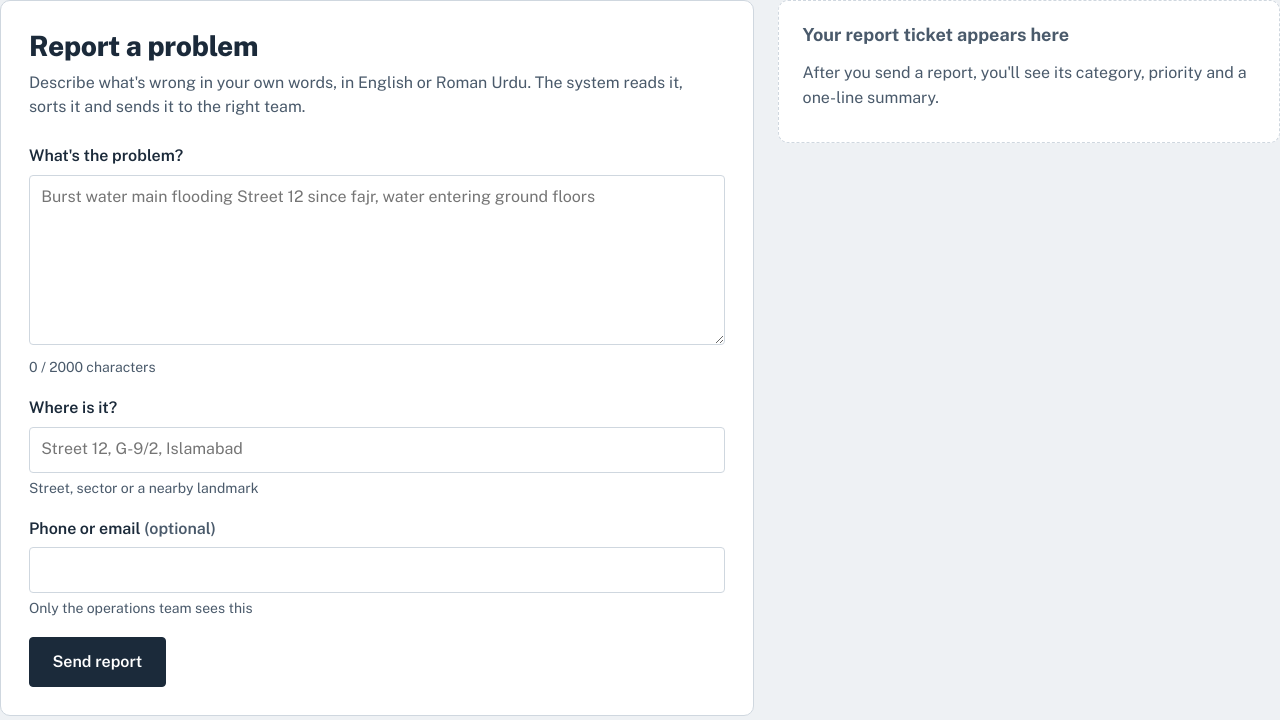
Test: shows the category, priority, summary and provider returned by the server
The image size is (1280, 720).
Type "Burst water main flooding Street 12" into the text box labelled "What's the problem?" at (377, 260), box left=29, top=175, right=725, bottom=345
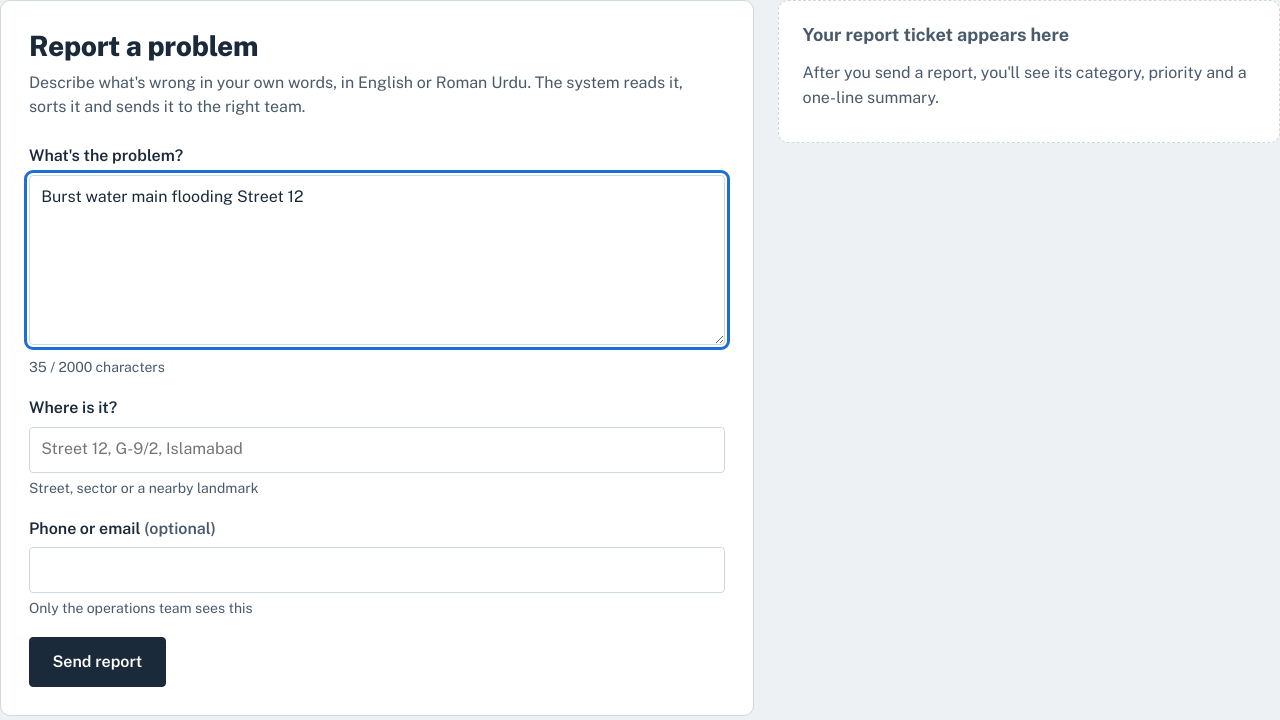
Type "Street 12, G-9/2" into the field labelled "Where is it?" at (377, 450), box left=29, top=427, right=725, bottom=473
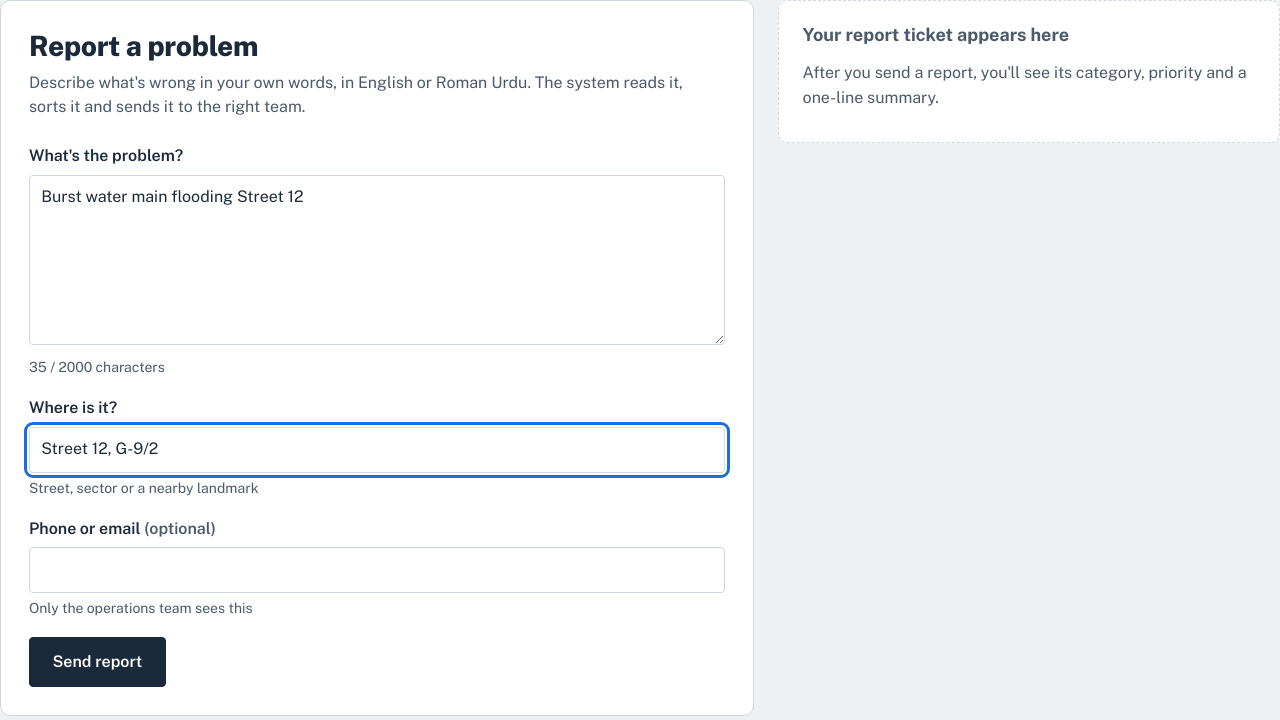
Click the button "Send report" at (97, 662), box left=29, top=637, right=166, bottom=686
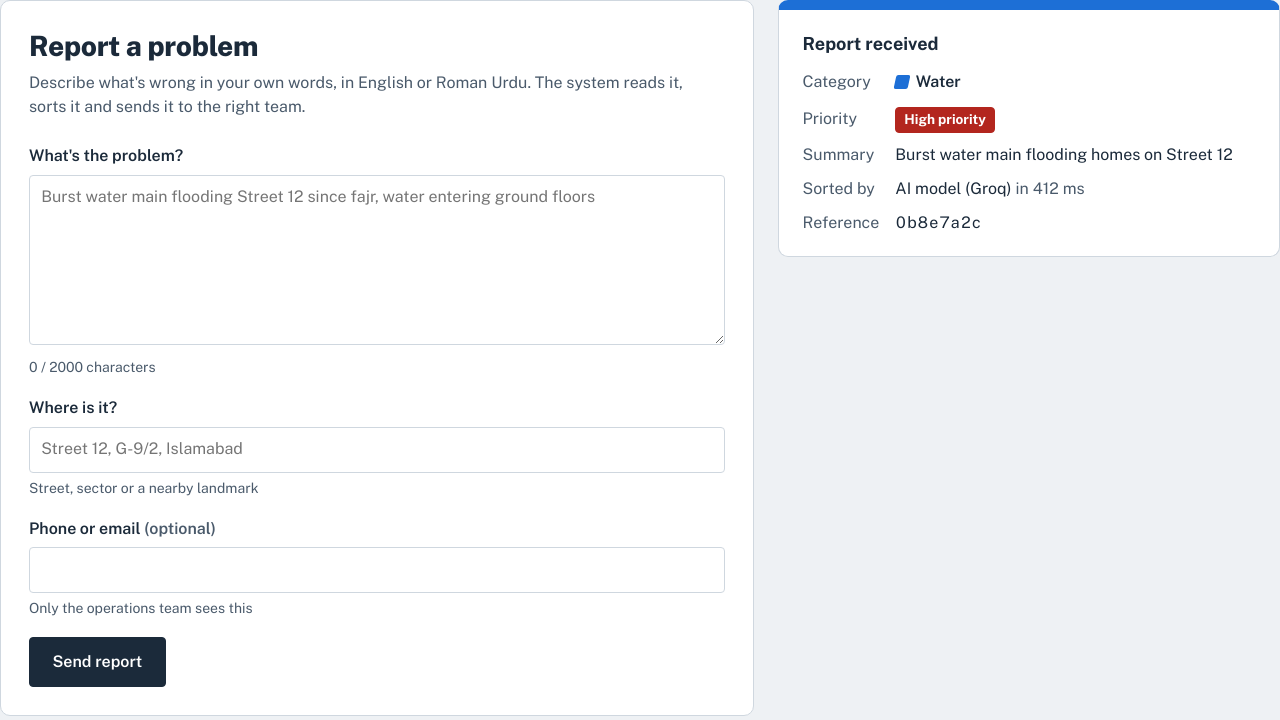
Check: the element with test id "result" shows "Water", box left=916, top=72, right=961, bottom=91
Check: the element with test id "result" shows "High priority", box left=904, top=111, right=986, bottom=127
Check: the element with test id "result" shows "Burst water main flooding homes on Street 12", box left=895, top=144, right=1233, bottom=164
